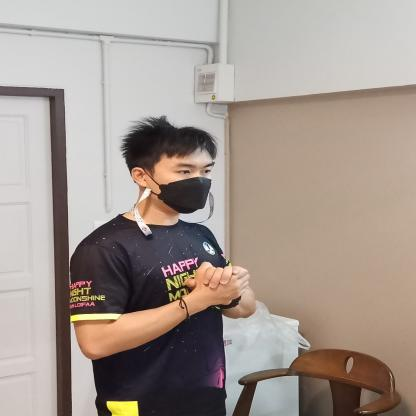Grieve: (129, 239, 304, 318)
